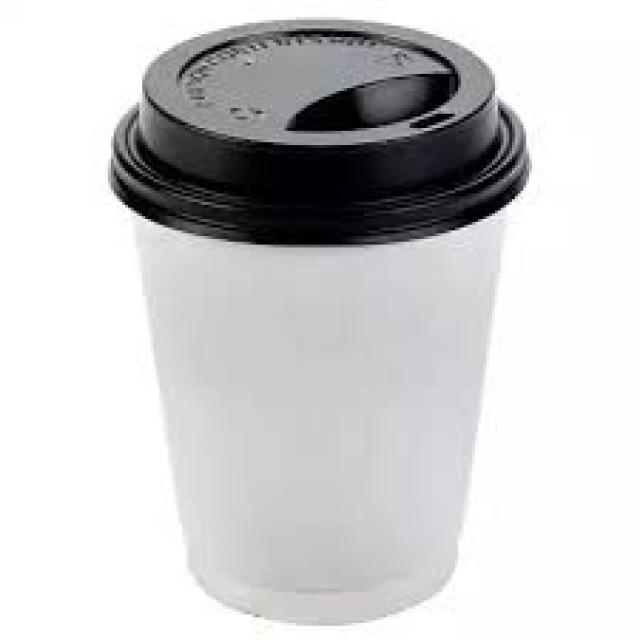PaperCardboard: (111, 14, 526, 622)
